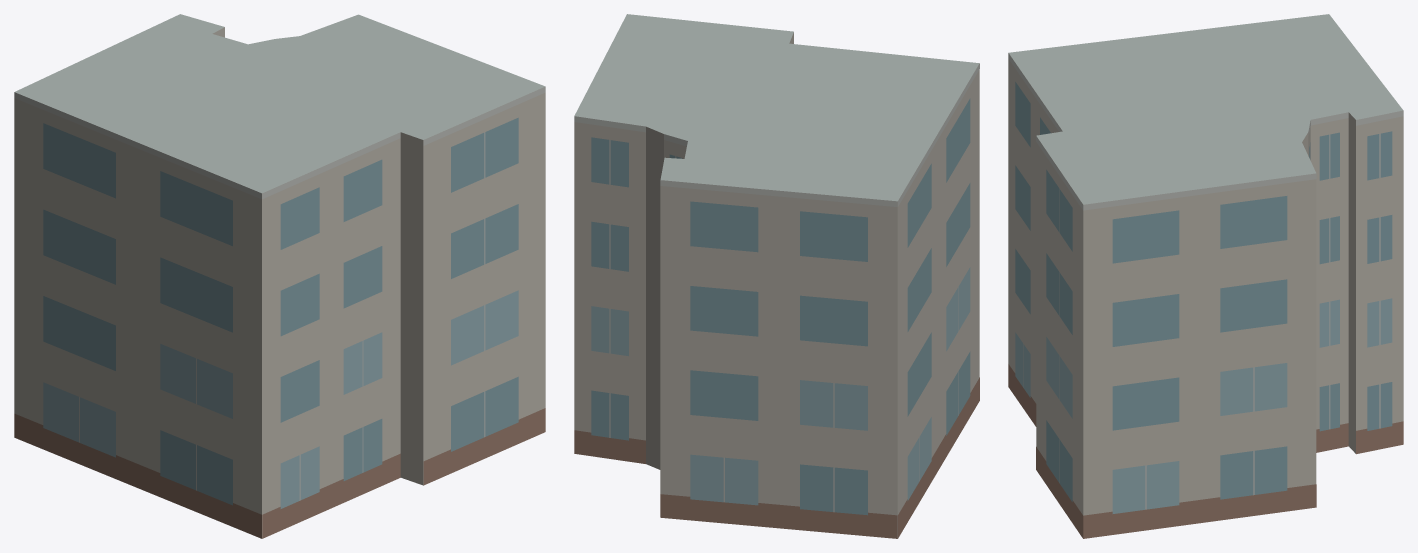
The model's file is survey-upis-32629455.glb.
The picture shows the model from 3 angles, left to right: view 1: azimuth 30°, elevation 25°; view 2: azimuth 150°, elevation 25°; view 3: azimuth 270°, elevation 25°; orthographic projection. The views are drawn at different scales.
Parts seen in each view (by area): view 1: survey-upis-32629455.tmp; view 2: survey-upis-32629455.tmp; view 3: survey-upis-32629455.tmp.
Part boxes in pixels (x1=…): survey-upis-32629455.tmp: x1=14, y1=14, x2=545, y2=538; survey-upis-32629455.tmp: x1=574, y1=14, x2=979, y2=538; survey-upis-32629455.tmp: x1=1008, y1=14, x2=1403, y2=538.
Bounding box in the file's own units: 17.28 × 14.1 × 15.12.
